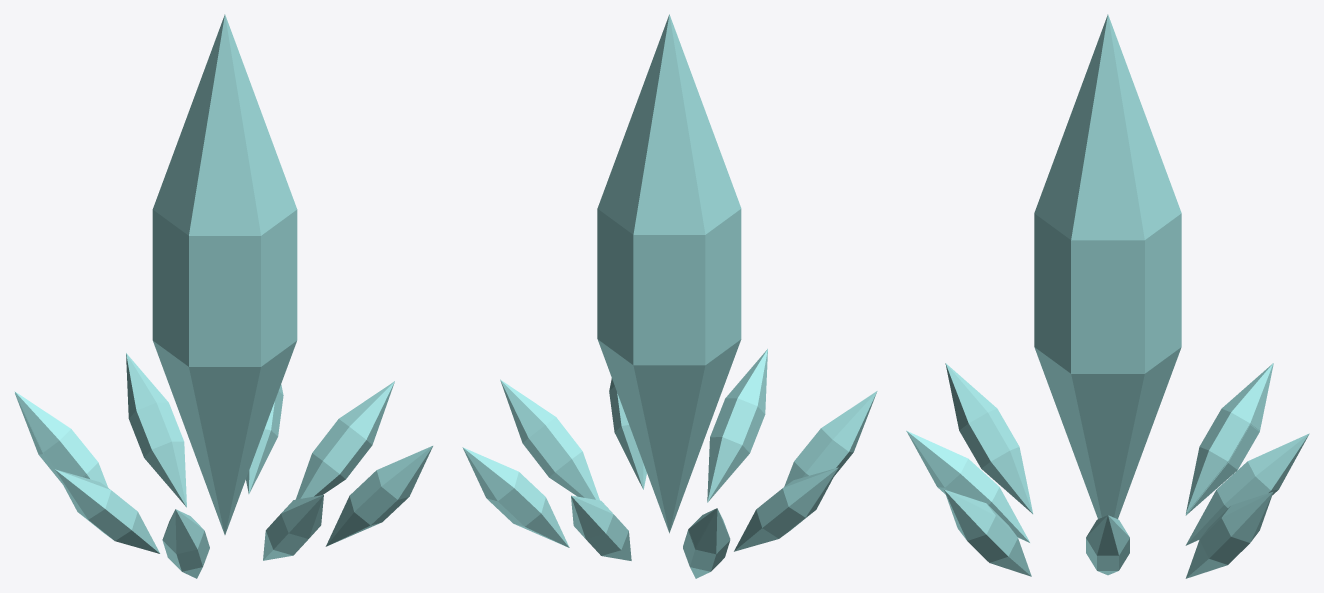
Rendered from crystalsubd.glb.
3 renders of one model, left to right at view 1: azimuth 30°, elevation 25°; view 2: azimuth 150°, elevation 25°; view 3: azimuth 270°, elevation 25°, orthographic. The views are drawn at different scales.
Visible parts, largest first — view 1: Cylinder.002, Cylinder.001; view 2: Cylinder.002, Cylinder.001; view 3: Cylinder.002, Cylinder.001.
Part boxes in pixels (box(x1,y1,x2,y2)): Cylinder.002: box(152, 14, 297, 534); Cylinder.001: box(14, 353, 432, 578); Cylinder.002: box(597, 14, 741, 533); Cylinder.001: box(462, 349, 877, 578); Cylinder.002: box(1034, 14, 1181, 518); Cylinder.001: box(906, 363, 1309, 578).
Size of the model in its own units: 5.44 by 8 by 5.48.
